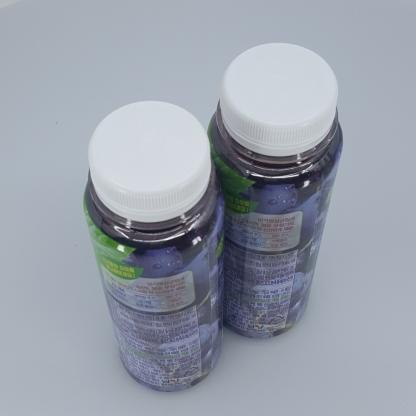---------210ML: (84, 100, 225, 392), (206, 43, 343, 339)
